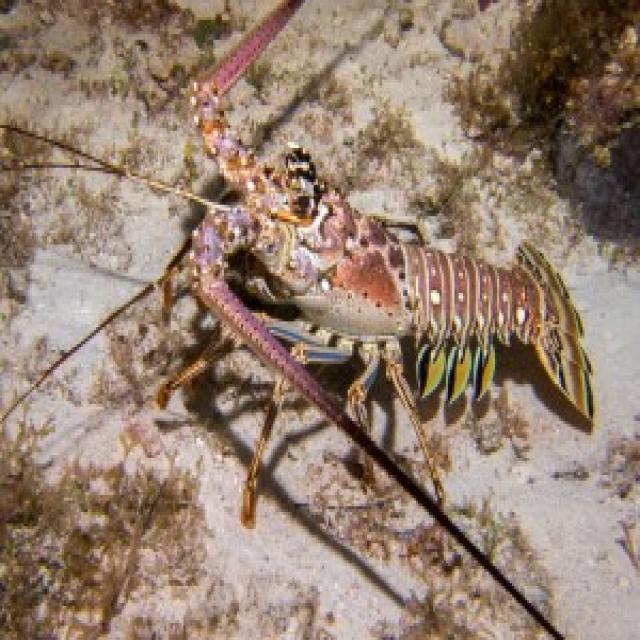lobsters: (126, 89, 640, 538)
